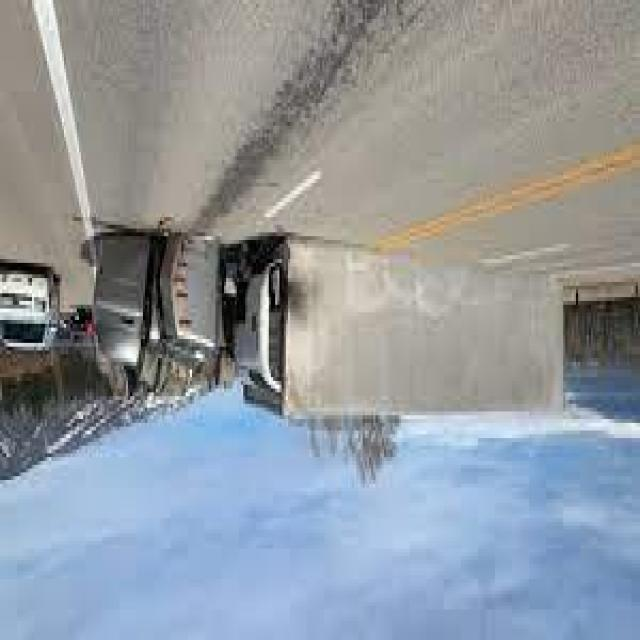severe: (78, 227, 571, 440)
